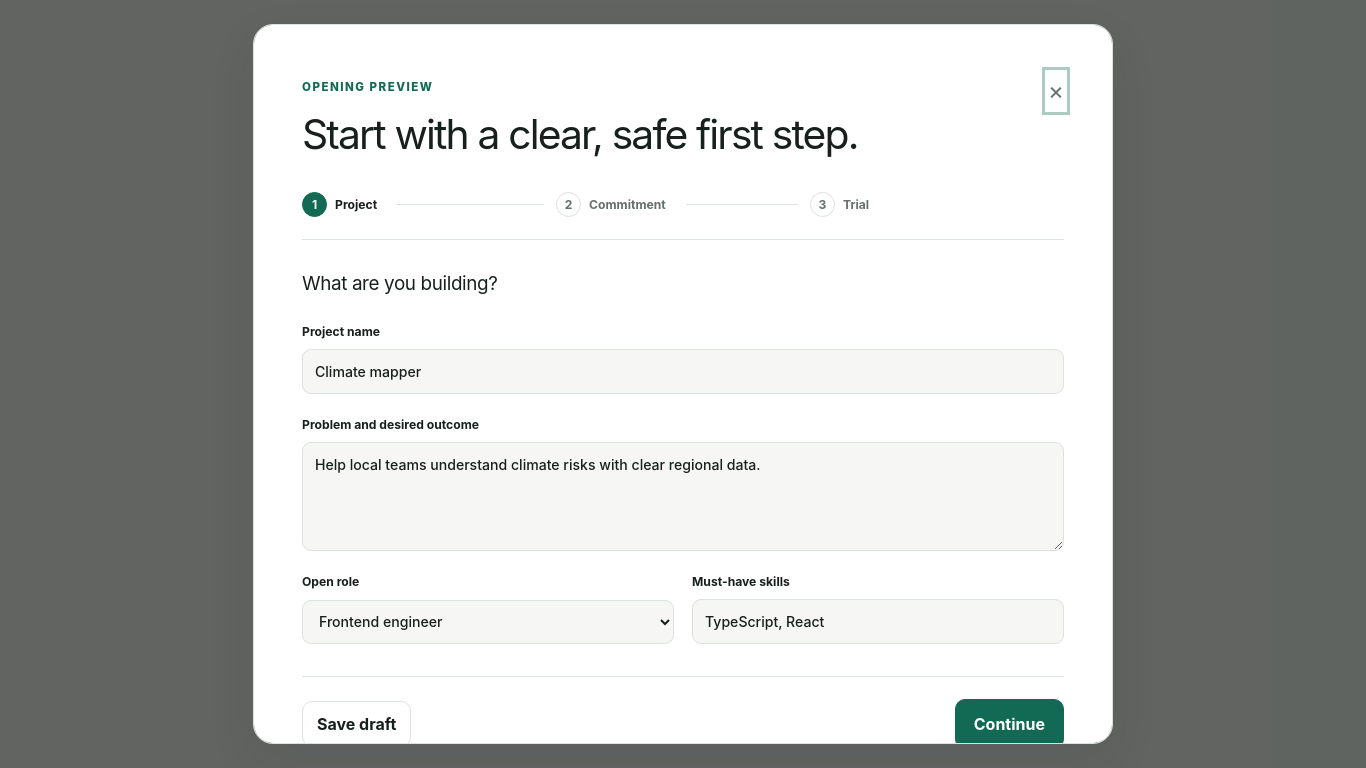
it: CreateOpeningPanel › completes all three steps and saves the final draft
The image size is (1366, 768).
Click the button "Continue" at (1009, 724), box [955, 699, 1064, 749]
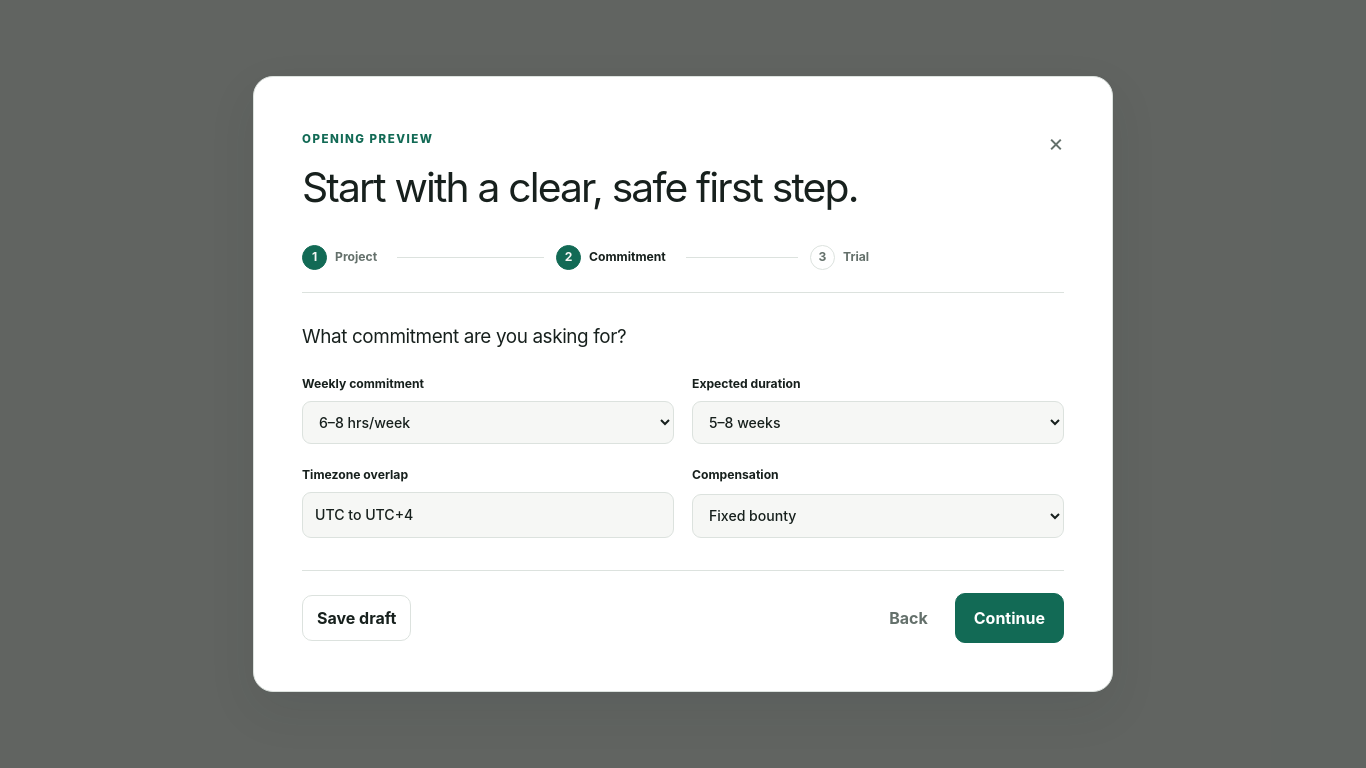
Expected: the heading "What commitment are you asking for?" is shown, [302, 325, 626, 348]
Click the button "Continue" at (1009, 618), box [955, 593, 1064, 643]
(page scrolled)
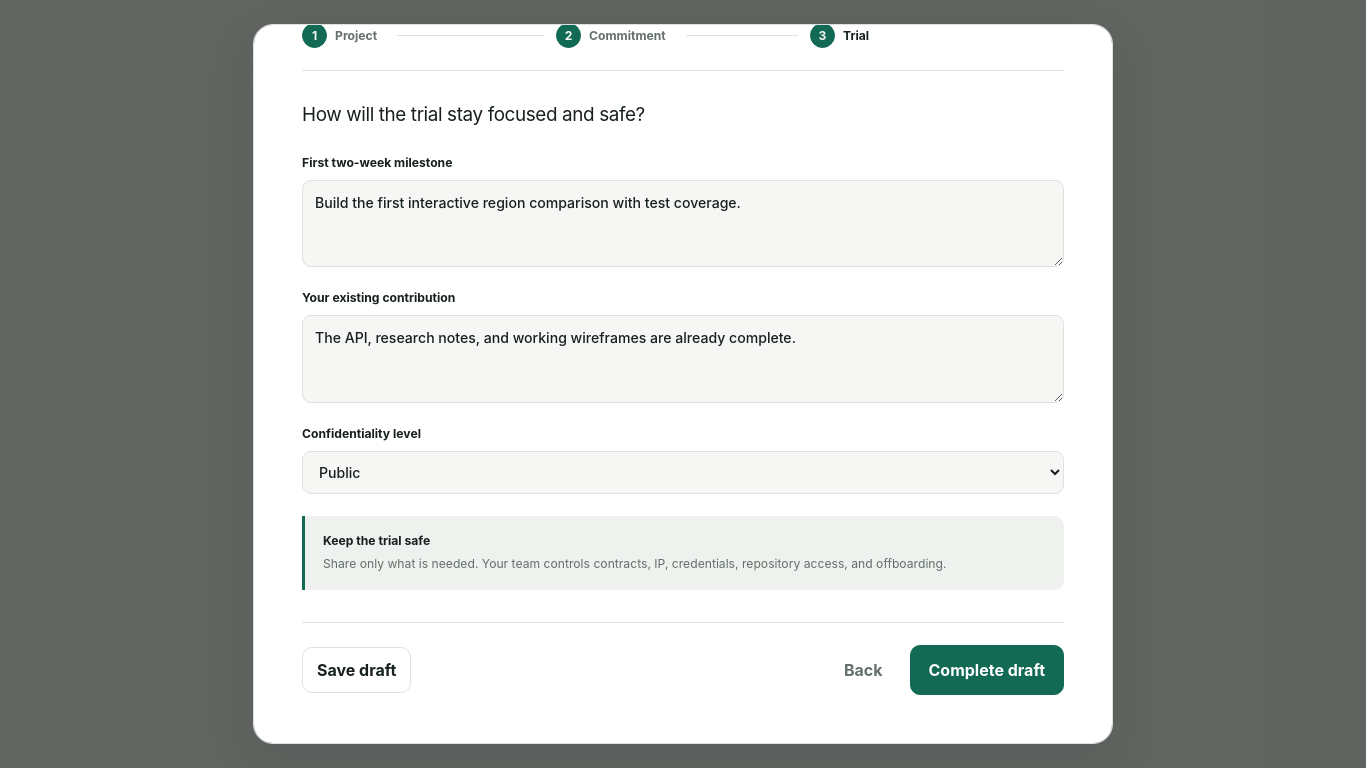
Expected: the heading "How will the trial stay focused and safe?" is shown, [302, 103, 645, 126]
Click the button "Complete draft" at (987, 670), box [910, 645, 1064, 695]
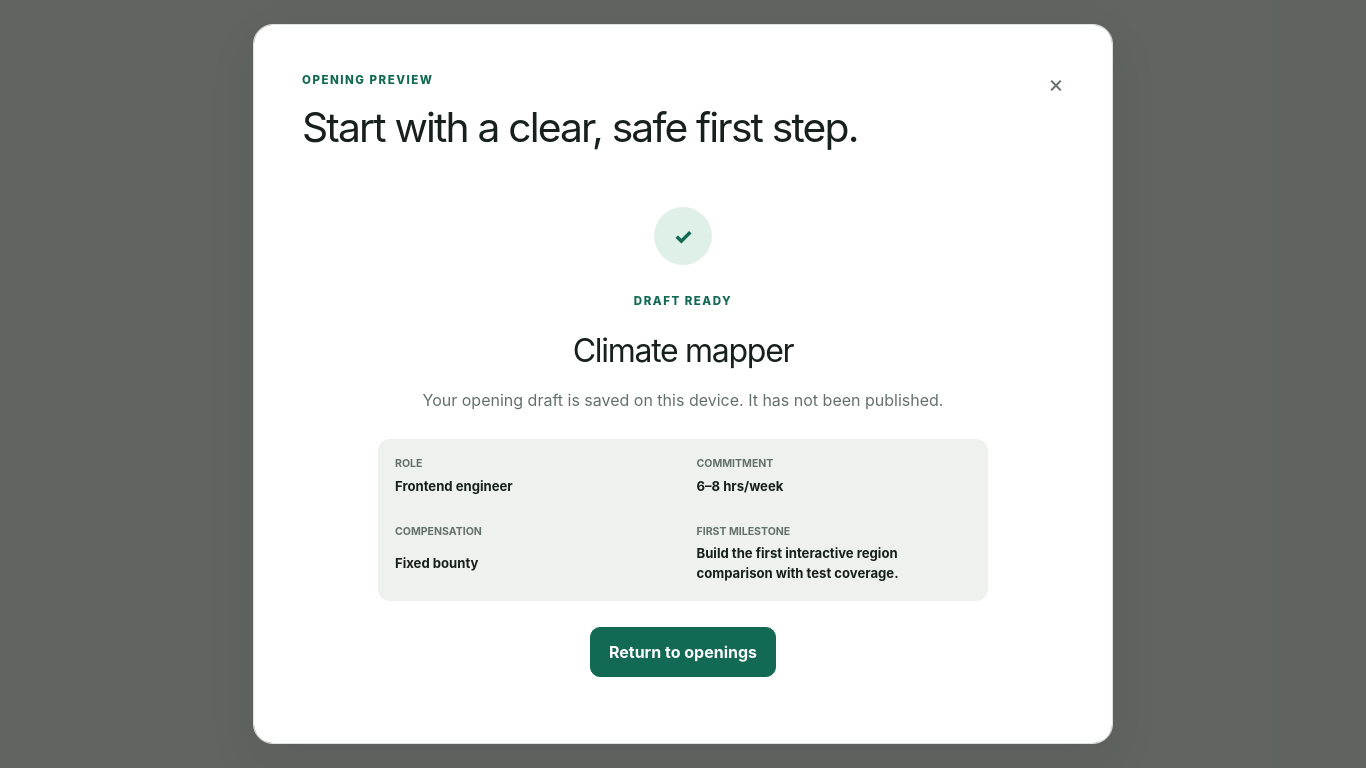
Expected: the message shows "Draft ready", [634, 294, 732, 308]
Expected: the message shows "Climate mapper", [573, 331, 793, 370]
